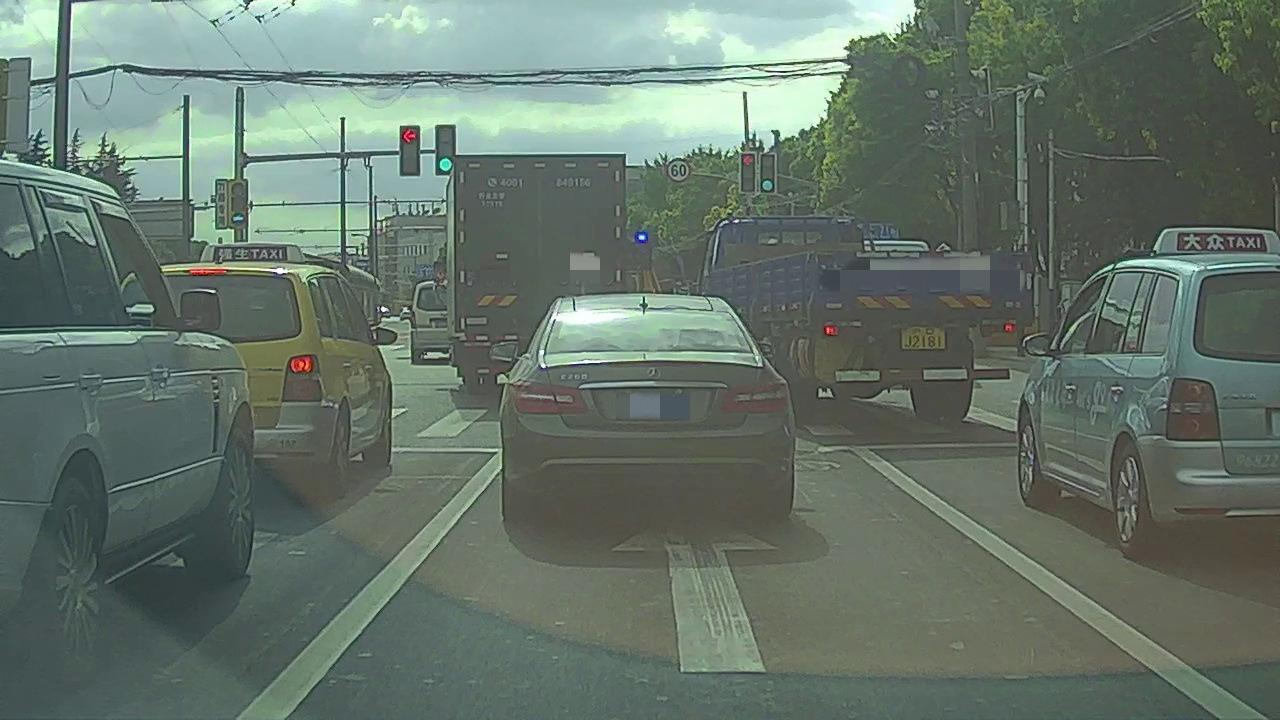traffic_light: (437, 124, 458, 178), (401, 122, 420, 175), (741, 153, 757, 192), (761, 153, 775, 192)
